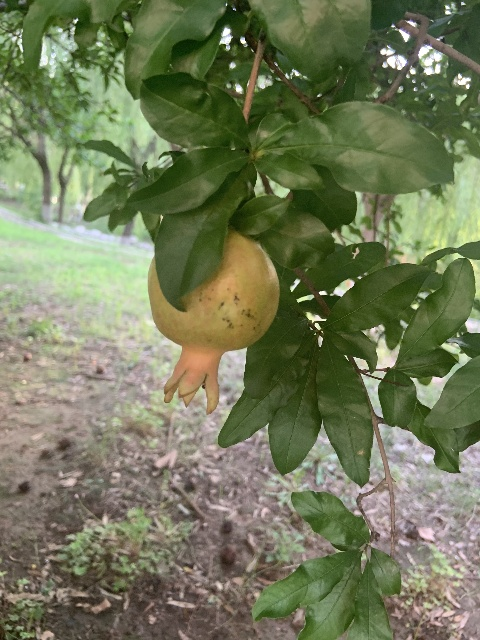mid-growth: (147, 229, 280, 414)
